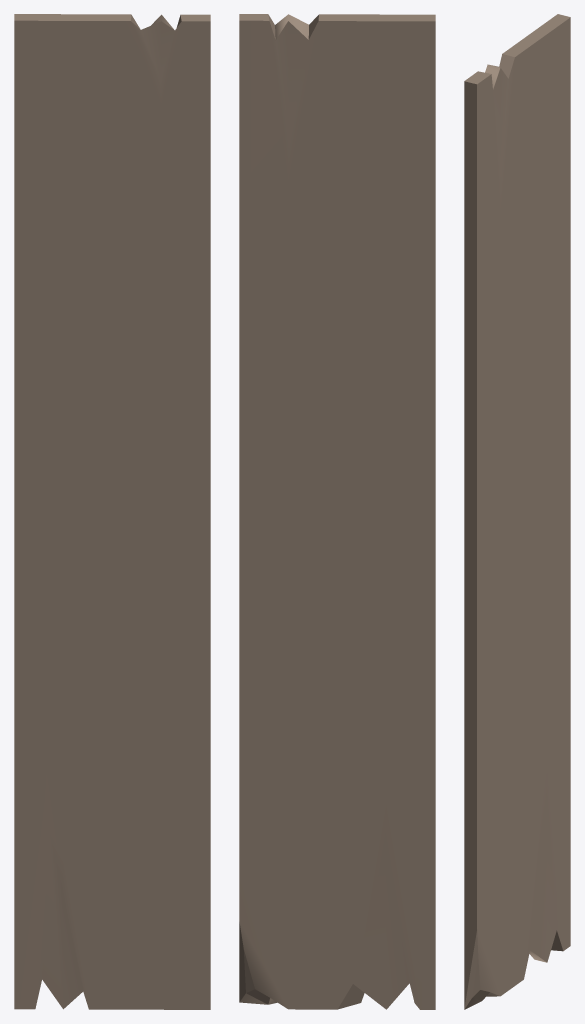
Rendered from Wood_wall.fbx.
3 renders of one model, left to right at view 1: azimuth 30°, elevation 25°; view 2: azimuth 210°, elevation 25°; view 3: azimuth 270°, elevation 25°, orthographic. The views are drawn at different scales.
Parts seen in each view (by area): view 1: wall_wood; view 2: wall_wood; view 3: wall_wood.
Part boxes in pixels (box(x1,y1,x2,y2)): wall_wood: box(14, 14, 210, 1009); wall_wood: box(239, 14, 435, 1009); wall_wood: box(464, 14, 570, 1009).
Size of the model in its own units: 137 by 840 by 87.28.
